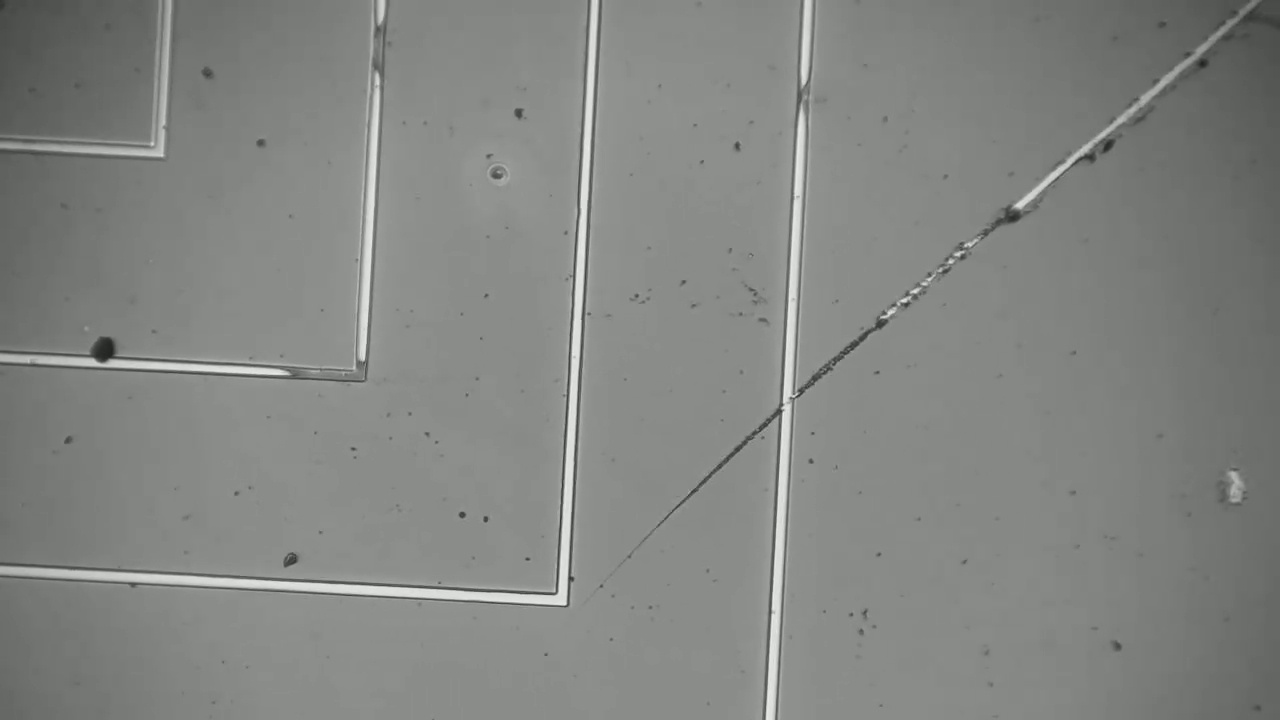gray_line: (270, 353, 384, 398), (352, 3, 399, 95), (337, 342, 377, 404), (785, 64, 823, 124)
scratch: (590, 1, 1264, 593)
stains_enbedded: (75, 319, 123, 386)
